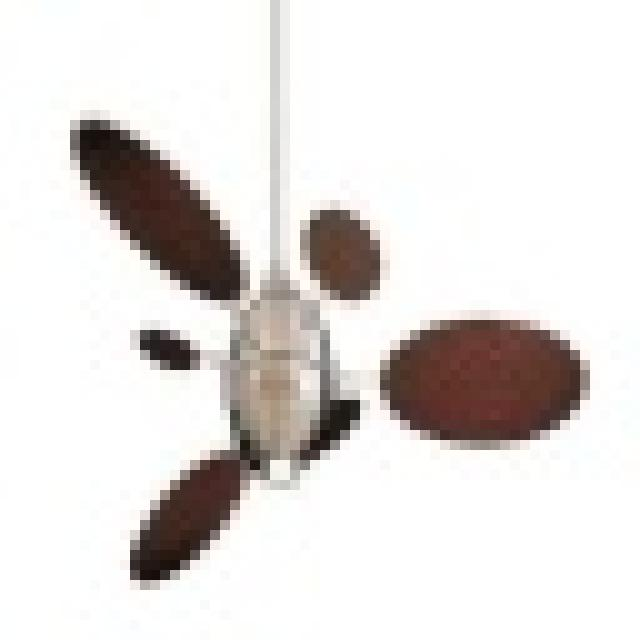Bulb: (47, 106, 604, 626)
